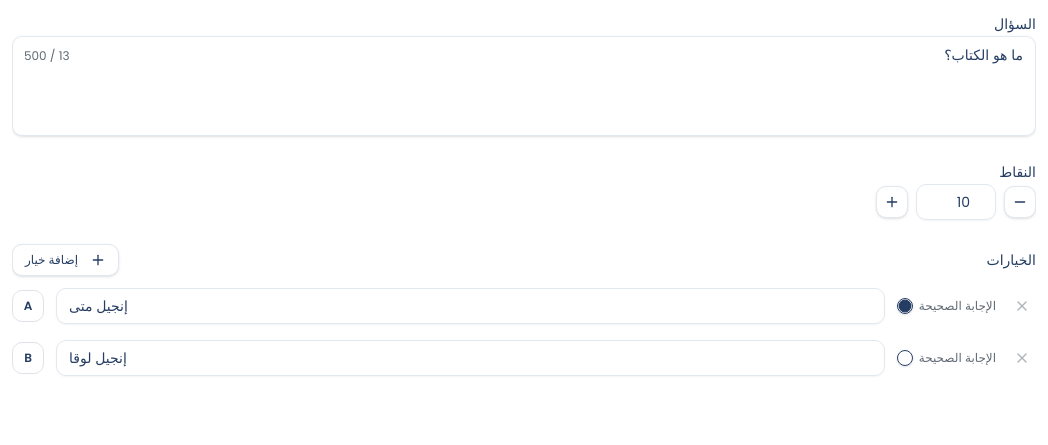
Test: the form of a question › removes an option when there are more than two
What coordinates should you click on to do the following:
click the button "إضافة خيار"
I would click on:
 (66, 260)
Its box is [12,244,119,276].
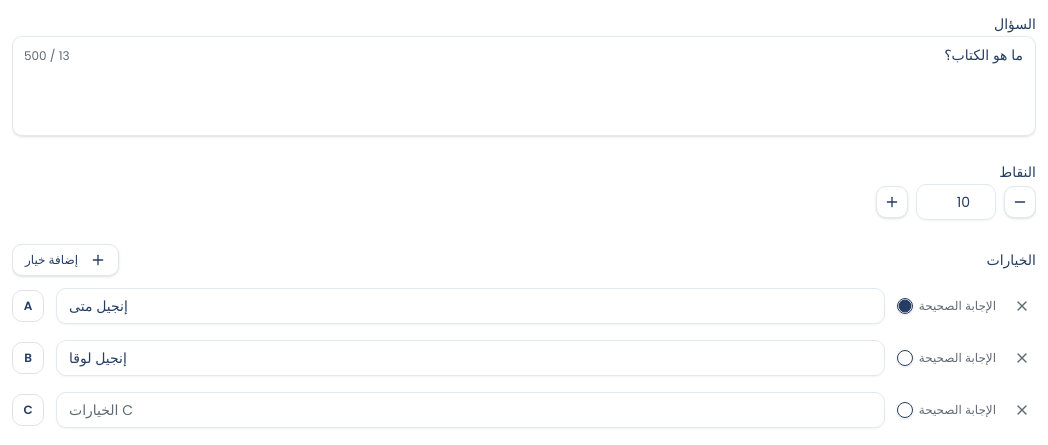
Now the number of buttons named "إزالة الخيار" is 3
Now the 1st button named "إزالة الخيار" is enabled
What coordinates should you click on to do the following:
click the 1st button named "إزالة الخيار"
I would click on:
 (1022, 306)
Its box is [1008,292,1036,320].
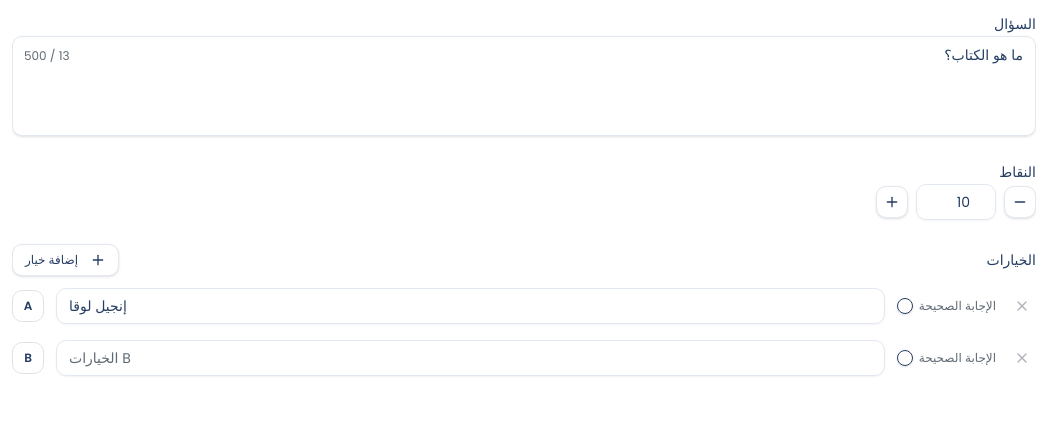
Now the number of buttons named "إزالة الخيار" is 2, box [1008,292,1036,320]; [1008,344,1036,372]
